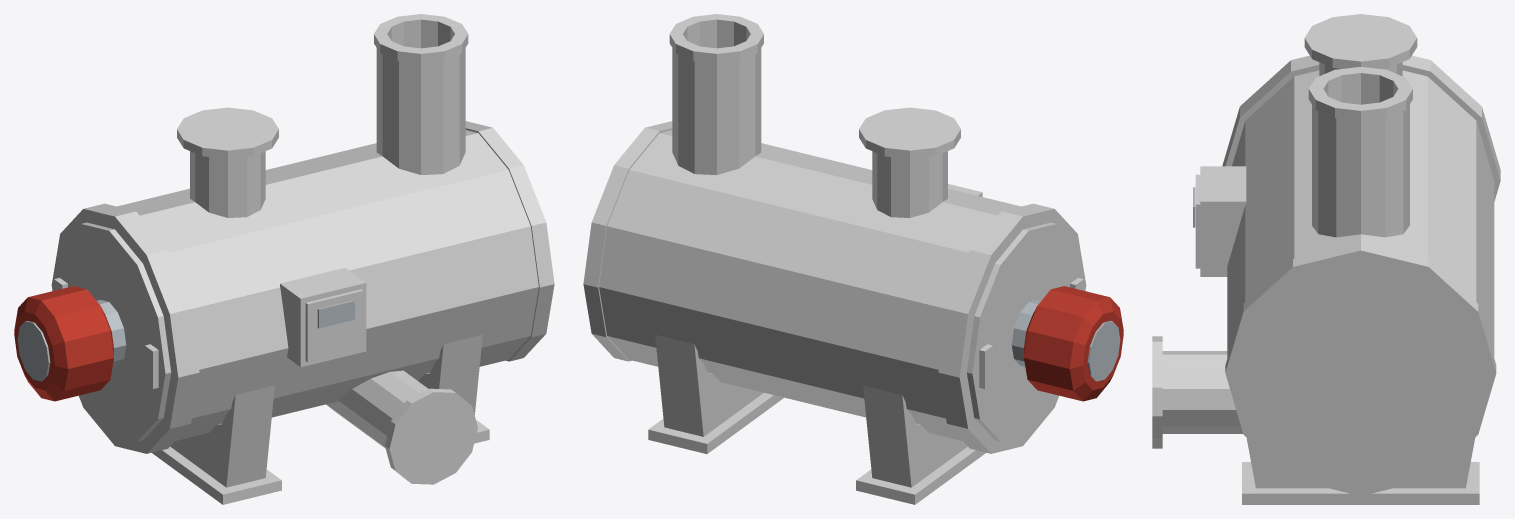
The model's file is boiler.glb.
The picture shows the model from 3 angles, left to right: view 1: azimuth 30°, elevation 25°; view 2: azimuth 150°, elevation 25°; view 3: azimuth 270°, elevation 25°; orthographic projection. The views are drawn at different scales.
Visible parts, largest first — view 1: shell, front.door, stack, front.rim, burner.housing, feed.flange, saddle.0, steam.stub, steam.flange, rear.cover, control.box, feed.stub (+7 smaller); view 2: shell, front.door, stack, front.rim, burner.housing, saddle.1, saddle.0, steam.stub, steam.flange, rear.cover, stack.lip, saddle.1.foot (+3 smaller); view 3: rear.cover, shell, stack, feed.stub, steam.flange, saddle.1.foot, control.box, front.rim, stack.lip, saddle.1, feed.flange, control.door.
Part boxes in pixels (x1=…): shell: x1=117, y1=130, x2=538, y2=440; front.door: x1=53, y1=222, x2=171, y2=441; stack: x1=376, y1=26, x2=465, y2=174; front.rim: x1=51, y1=203, x2=199, y2=453; burner.housing: x1=14, y1=286, x2=113, y2=401; feed.flange: x1=385, y1=388, x2=477, y2=484; saddle.0: x1=170, y1=385, x2=274, y2=487; steam.stub: x1=190, y1=151, x2=265, y2=217; steam.flange: x1=177, y1=107, x2=278, y2=159; rear.cover: x1=465, y1=121, x2=554, y2=361; control.box: x1=280, y1=267, x2=366, y2=367; feed.stub: x1=326, y1=370, x2=427, y2=448; shell: x1=599, y1=130, x2=1020, y2=440; front.door: x1=966, y1=222, x2=1084, y2=441; stack: x1=672, y1=26, x2=761, y2=174; front.rim: x1=938, y1=203, x2=1086, y2=453; burner.housing: x1=1024, y1=286, x2=1123, y2=401; saddle.1: x1=655, y1=334, x2=763, y2=436; saddle.0: x1=863, y1=385, x2=967, y2=487; steam.stub: x1=872, y1=151, x2=947, y2=217; steam.flange: x1=859, y1=107, x2=960, y2=159; rear.cover: x1=583, y1=121, x2=672, y2=361; stack.lip: x1=669, y1=14, x2=763, y2=63; saddle.1.foot: x1=648, y1=392, x2=783, y2=453; rear.cover: x1=1225, y1=242, x2=1496, y2=495; shell: x1=1227, y1=70, x2=1494, y2=357; stack: x1=1312, y1=80, x2=1409, y2=237; feed.stub: x1=1162, y1=351, x2=1242, y2=433; steam.flange: x1=1304, y1=14, x2=1417, y2=68; saddle.1.foot: x1=1242, y1=462, x2=1479, y2=504; control.box: x1=1200, y1=166, x2=1246, y2=276; front.rim: x1=1222, y1=55, x2=1500, y2=201; stack.lip: x1=1308, y1=67, x2=1412, y2=121; saddle.1: x1=1246, y1=437, x2=1474, y2=488; feed.flange: x1=1152, y1=336, x2=1162, y2=448; control.door: x1=1195, y1=174, x2=1200, y2=268.
Bounding box in the file's own units: 2.81 × 2.16 × 1.67.
